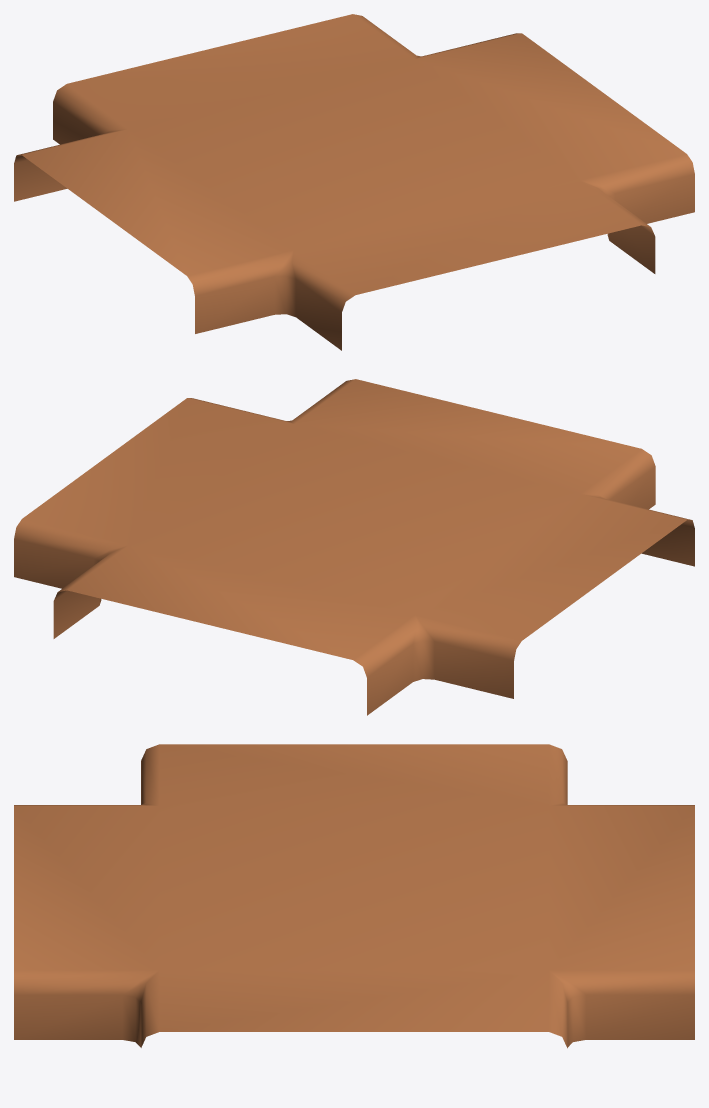
The model's file is road_02_cross_shape.fbx.
3 views of the same model, one above another, from view 1: azimuth 30°, elevation 25°; view 2: azimuth 150°, elevation 25°; view 3: azimuth 270°, elevation 25° (orthographic). The views are drawn at different scales.
Parts seen in each view (by area): view 1: road_02_cross_shape; view 2: road_02_cross_shape; view 3: road_02_cross_shape.
Boxes of the visible parts, box(x1,y1,x2,y2) form: road_02_cross_shape: box(14, 14, 694, 350); road_02_cross_shape: box(14, 379, 694, 715); road_02_cross_shape: box(14, 744, 694, 1048).
Size of the model in its own units: 19.99 by 2 by 20.
